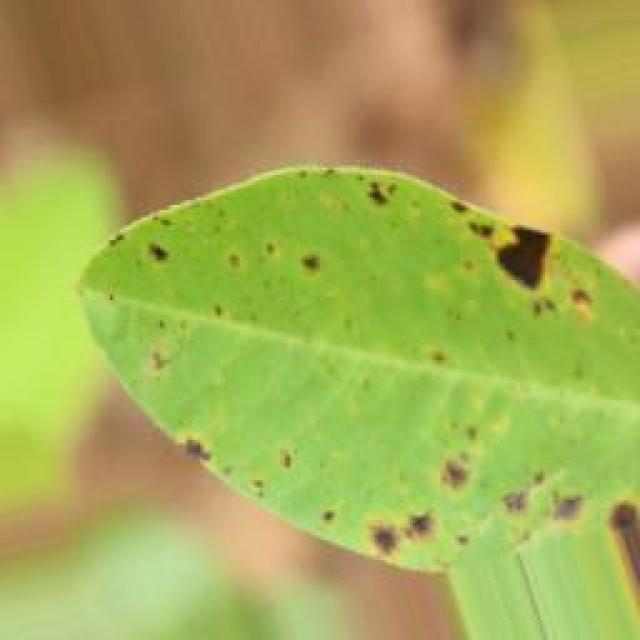Yellowish: (66, 174, 623, 557)
